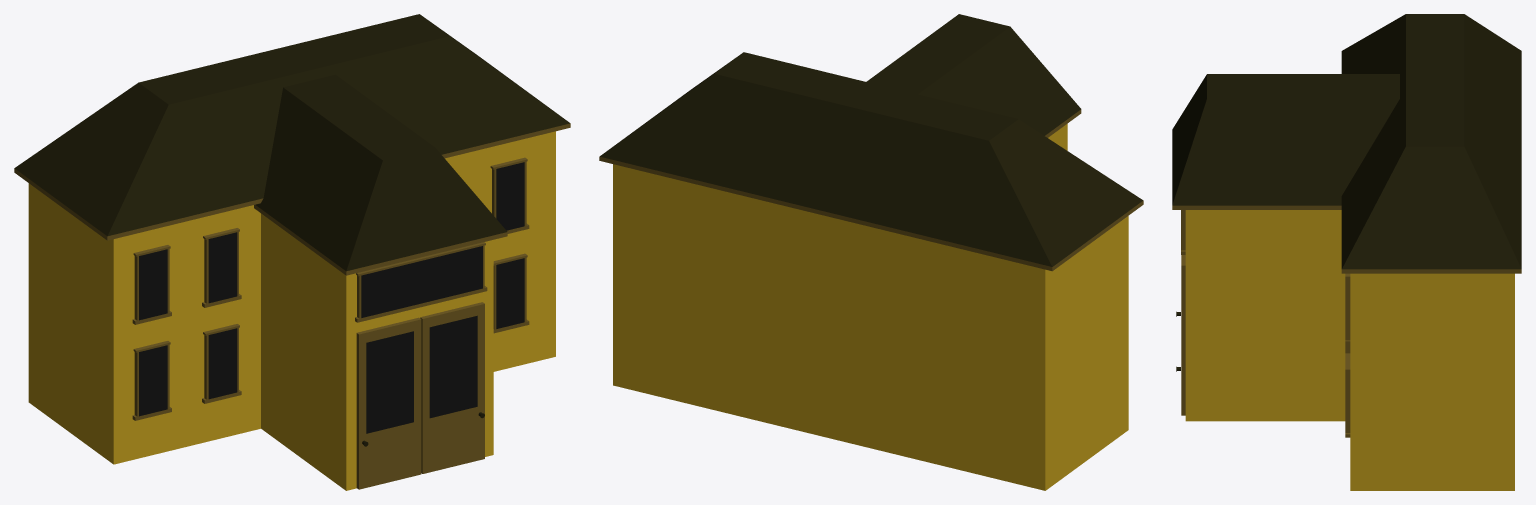
File: predio_escolar.fbx
3 views of the same model, side by side, from view 1: azimuth 30°, elevation 25°; view 2: azimuth 150°, elevation 25°; view 3: azimuth 270°, elevation 25° (orthographic). The views are drawn at different scales.
Visible parts, largest first — view 1: predio_escolar; view 2: predio_escolar; view 3: predio_escolar.
Boxes of the visible parts, x1,y1,x2,y2 form: predio_escolar: (14, 14, 570, 490); predio_escolar: (599, 14, 1143, 490); predio_escolar: (1172, 14, 1521, 490).
Size of the model in its own units: 832 by 547 by 562.
